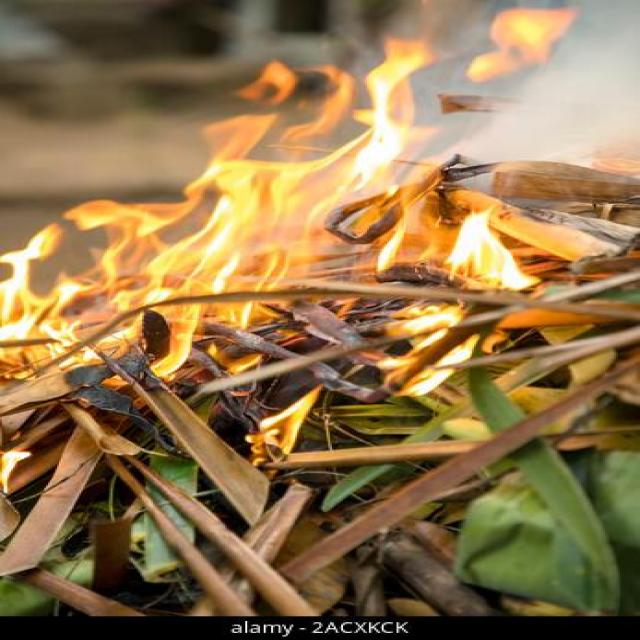fire: (0, 4, 582, 397), (243, 386, 322, 466)
